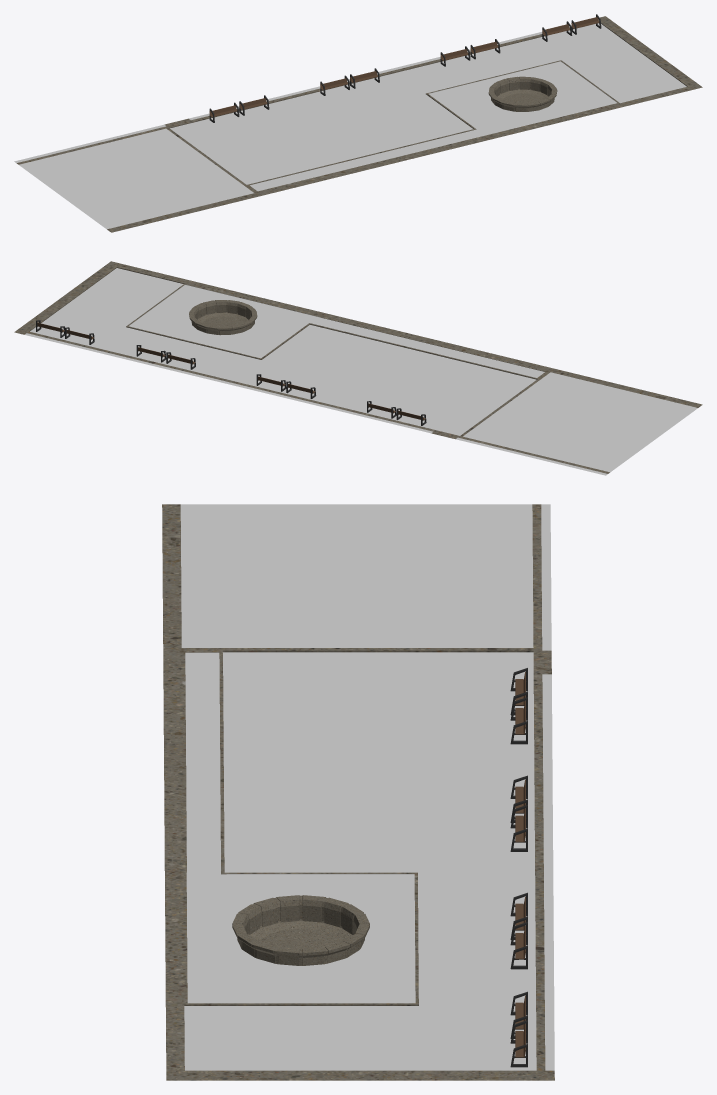
Rendered from vidinis_kiemelis_v1.fbx.
3 views of the same model, one above another, from view 1: azimuth 30°, elevation 25°; view 2: azimuth 150°, elevation 25°; view 3: azimuth 270°, elevation 25° (orthographic). The views are drawn at different scales.
Parts seen in each view (by area): view 1: Zole.001; view 2: Zole.001; view 3: Zole.001.
Boxes of the visible parts, <box> form: Zole.001: <box>14,16,702,232</box>; Zole.001: <box>14,261,702,475</box>; Zole.001: <box>162,504,554,1080</box>.
Size of the model in its own units: 54.47 by 1.31 by 15.68.
